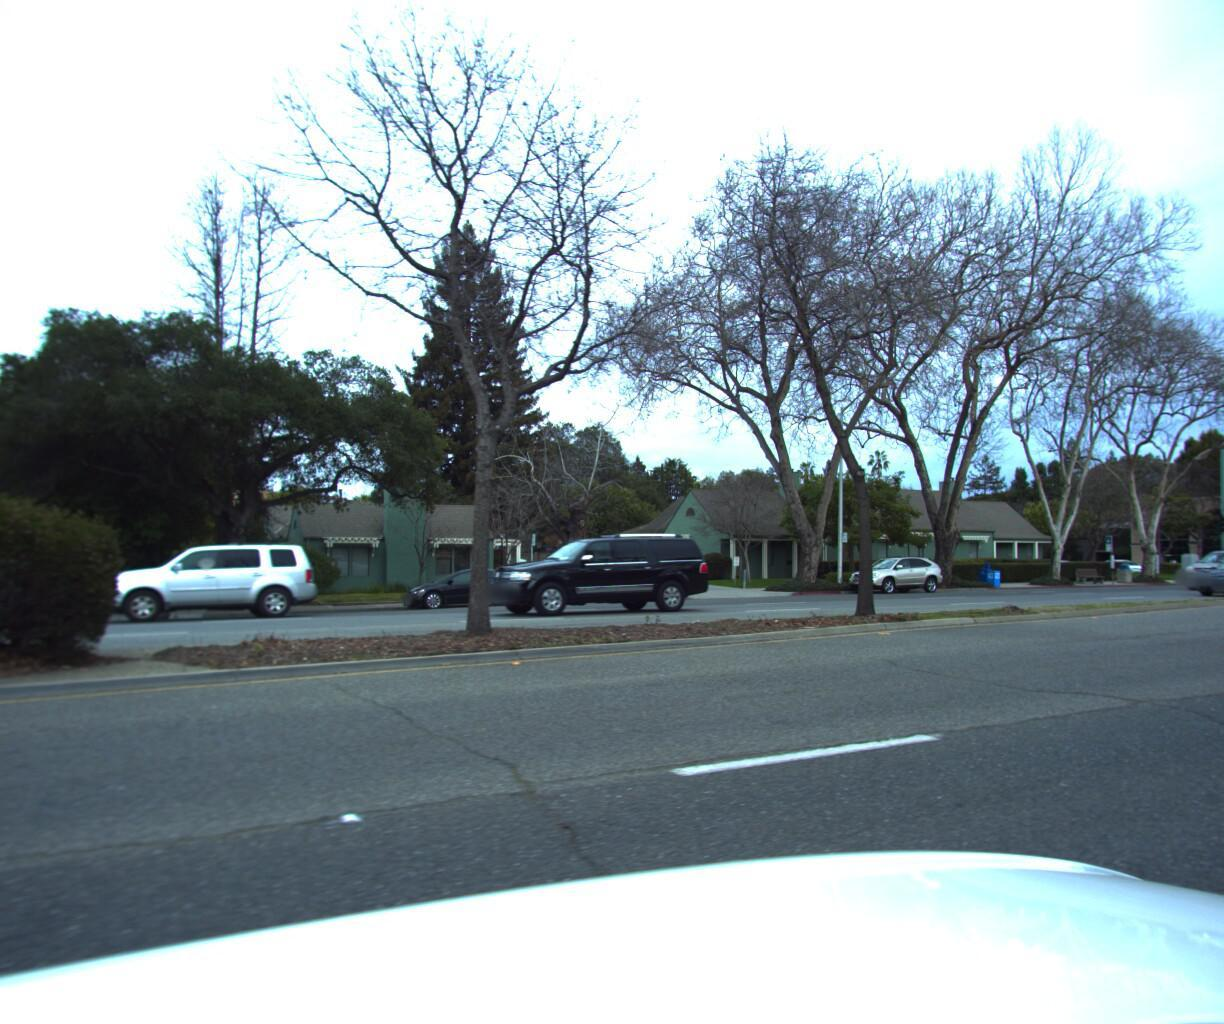car: (472, 529, 714, 619), (88, 539, 321, 627), (401, 562, 529, 610), (840, 551, 941, 591), (1172, 547, 1224, 587), (1185, 554, 1224, 598)
